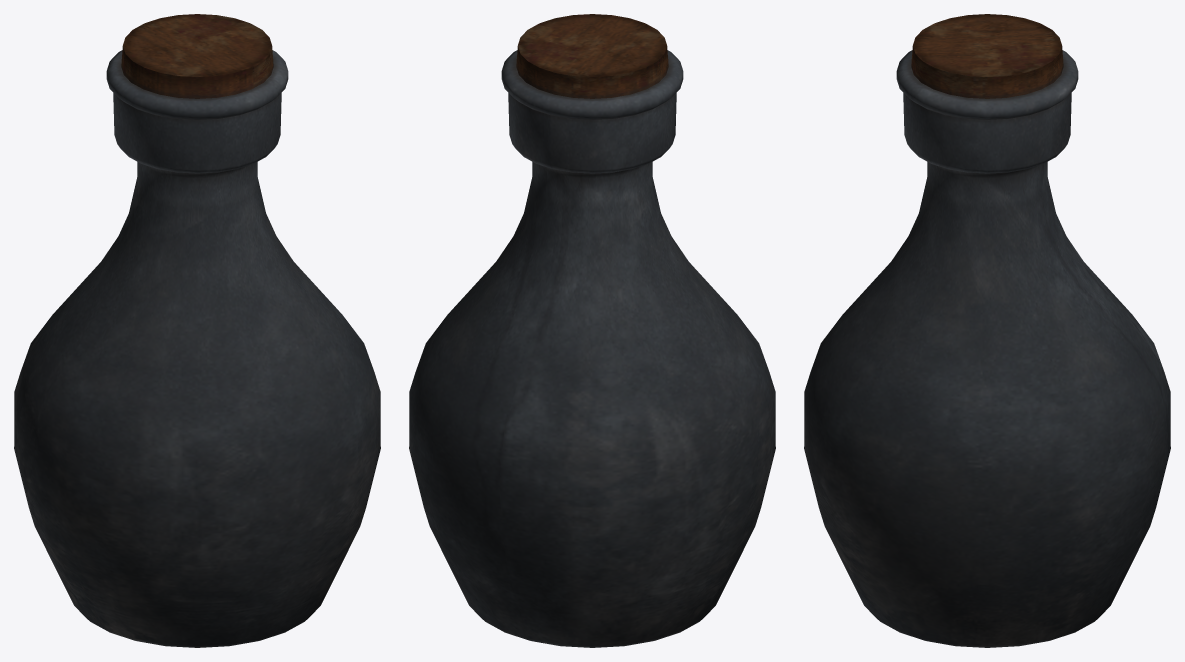
Rendered from Bottles_1.fbx.
The picture shows the model from 3 angles, left to right: view 1: azimuth 30°, elevation 25°; view 2: azimuth 150°, elevation 25°; view 3: azimuth 270°, elevation 25°; orthographic projection.
Parts seen in each view (by area): view 1: bottle_1; view 2: bottle_1; view 3: bottle_1.
Boxes of the visible parts, x1,y1,x2,y2 form: bottle_1: (14,14,380,647); bottle_1: (409,14,775,647); bottle_1: (804,14,1170,647).
Size of the model in its own units: 9.89 by 16.41 by 9.89.
